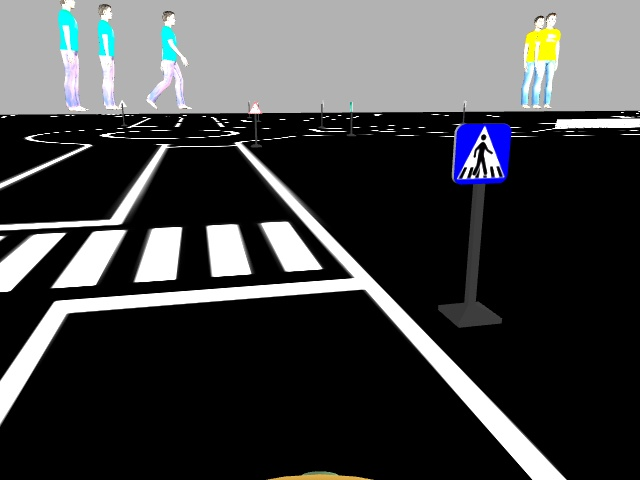Crosswalk: (449, 121, 514, 186)
